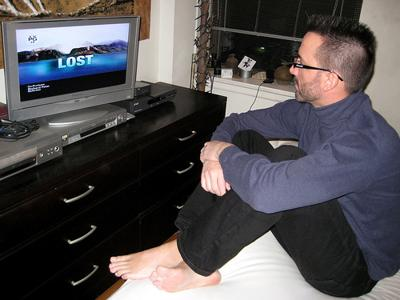person: (108, 15, 400, 298)
